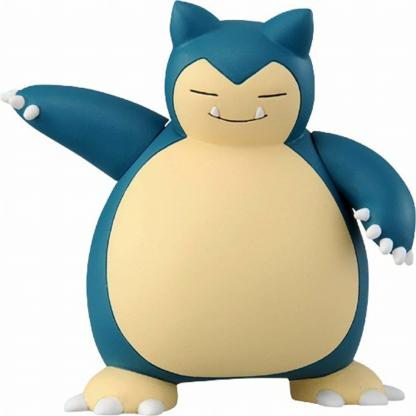Snorlax: (3, 1, 410, 416)
